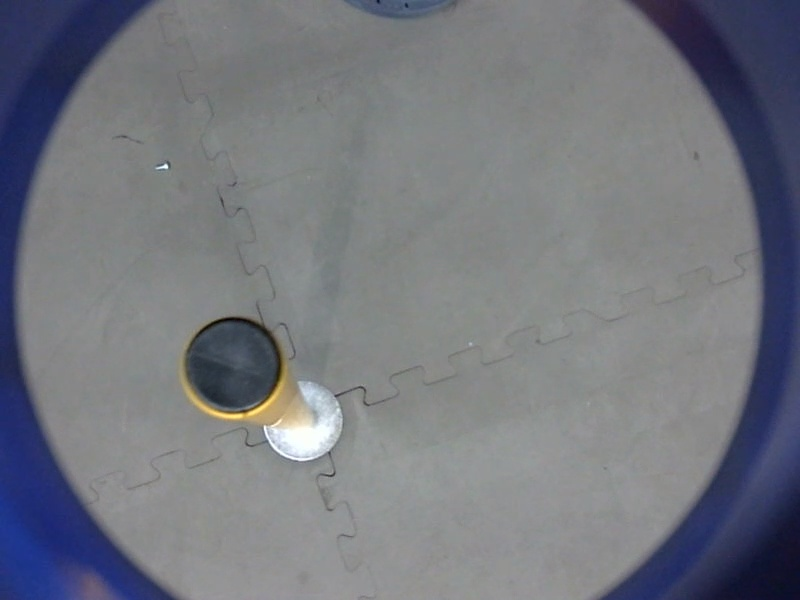tip: (174, 309, 292, 423)
